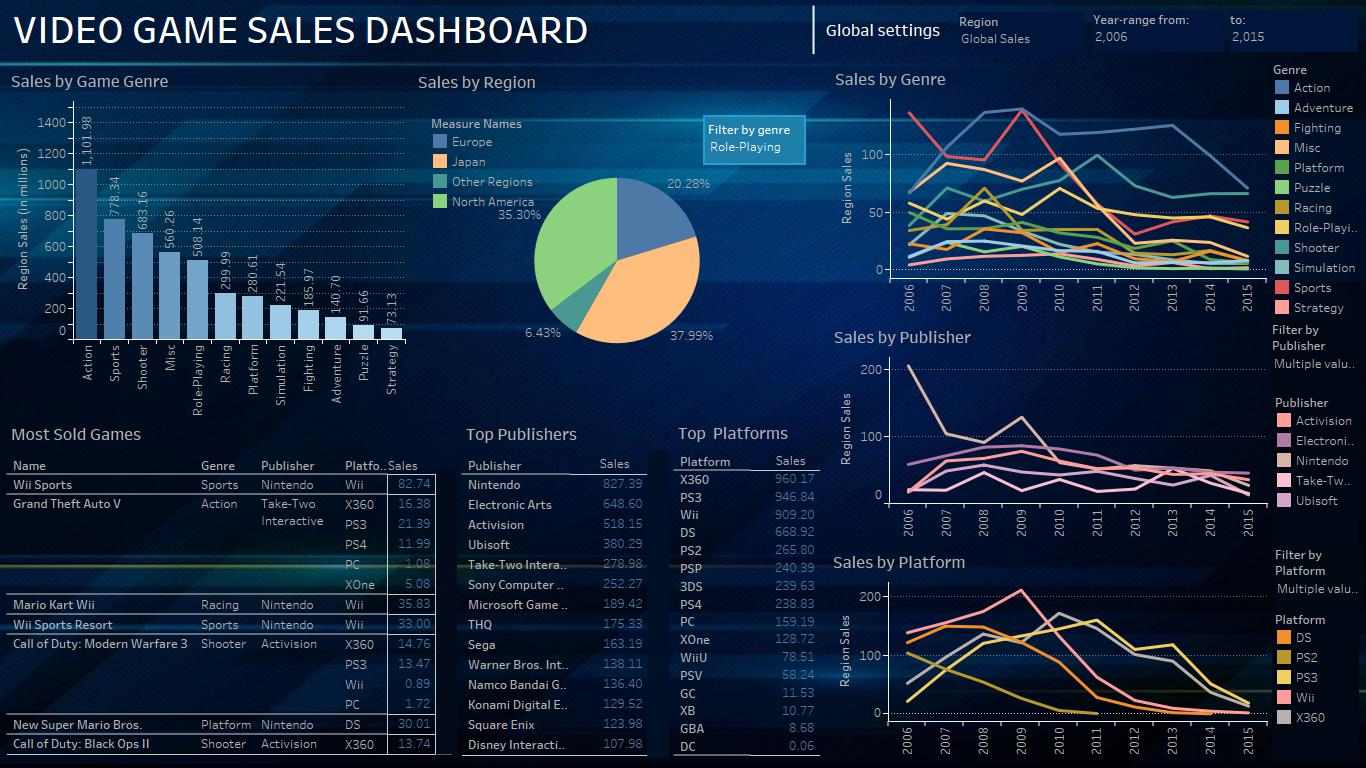

This screenshot's page, from the dashboard's own definition file:
{"tool":"tableau","page":{"name":"Dashboard 1","canvas":[1366,768],"ordinal":0},"visuals":[{"type":"parameter","param":"[Parameters].[Parameter 1]","box":[529,4,150,50]},{"type":"parameter","param":"[Parameters].[Parameter 3]","box":[807,5,126,67]},{"type":"parameter","param":"[Parameters].[Parameter 2]","box":[698,7,120,50]},{"type":"title","box":[8,8,1350,44]},{"type":"worksheet","title":"Sales-genre","mark":"Automatic","rows":["Calculation_330451681605750784"],"cols":["F5"],"box":[8,52,410,354]},{"type":"worksheet","title":"%sales-region","mark":"Pie","box":[418,52,411,354]},{"type":"worksheet","title":"sales-years-genre","mark":"Line","rows":["Calculation_330451681605750784"],"cols":["F4"],"box":[829,52,435,249]},{"type":"legend","title":"sales-years-genre","param":"[federated.0rc73sq1olvrj818etojb1lzlh97].[none:F5:nk]","box":[1264,52,94,233.5]},{"type":"legend","title":"%sales-region","param":"[federated.0rc73sq1olvrj818etojb1lzlh97].[:Measure Names]","box":[424,94,121,114]},{"type":"filter","title":"%sales-region","param":"[federated.0rc73sq1olvrj818etojb1lzlh97].[none:F5:nk]","box":[729,96,103,279]},{"type":"filter","title":"sales-years-publ","param":"[federated.0rc73sq1olvrj818etojb1lzlh97].[none:F6:nk]","box":[1264,285.5,94,223.2]},{"type":"legend","title":"sales-years-publ","param":"[federated.0rc73sq1olvrj818etojb1lzlh97].[none:F6:nk]","box":[1133,300,125,135]},{"type":"worksheet","title":"sales-years-publ","mark":"Line","rows":["Calculation_330451681605750784"],"cols":["F4"],"box":[829,301,435,225]},{"type":"worksheet","title":"games-sales","mark":"Automatic","rows":["F2","F5","F6","F3"],"box":[8,406,447,354]},{"type":"worksheet","title":"publish-sales","mark":"Automatic","rows":["F6"],"box":[455,406,201,354]},{"type":"worksheet","title":"plat-sales","mark":"Automatic","rows":["F3"],"box":[656,406,173,354]},{"type":"filter","title":"sales-years-plat","param":"[federated.0rc73sq1olvrj818etojb1lzlh97].[none:F3:nk]","box":[1264,508.6,94,251.4]},{"type":"worksheet","title":"sales-years-plat","mark":"Line","rows":["Calculation_330451681605750784"],"cols":["F4"],"box":[829,526,435,234]},{"type":"legend","title":"sales-years-plat","param":"[federated.0rc73sq1olvrj818etojb1lzlh97].[none:F3:nk]","box":[1199,550,65,131]}]}

Visuals, with their boxes in screenshot pixels (x1, y1, x2, y2), scaled from the page's 1366x768 canvas onto the 1366x768 screenshot:
parameter: bbox=[529, 4, 679, 54]
parameter: bbox=[807, 5, 933, 72]
parameter: bbox=[698, 7, 818, 57]
title: bbox=[8, 8, 1358, 52]
"Sales-genre" worksheet: bbox=[8, 52, 418, 406]
"%sales-region" worksheet (Pie marks): bbox=[418, 52, 829, 406]
"sales-years-genre" worksheet (Line marks): bbox=[829, 52, 1264, 301]
"sales-years-genre" legend: bbox=[1264, 52, 1358, 286]
"%sales-region" legend: bbox=[424, 94, 545, 208]
"%sales-region" filter: bbox=[729, 96, 832, 375]
"sales-years-publ" filter: bbox=[1264, 286, 1358, 509]
"sales-years-publ" legend: bbox=[1133, 300, 1258, 435]
"sales-years-publ" worksheet (Line marks): bbox=[829, 301, 1264, 526]
"games-sales" worksheet: bbox=[8, 406, 455, 760]
"publish-sales" worksheet: bbox=[455, 406, 656, 760]
"plat-sales" worksheet: bbox=[656, 406, 829, 760]
"sales-years-plat" filter: bbox=[1264, 509, 1358, 760]
"sales-years-plat" worksheet (Line marks): bbox=[829, 526, 1264, 760]
"sales-years-plat" legend: bbox=[1199, 550, 1264, 681]
